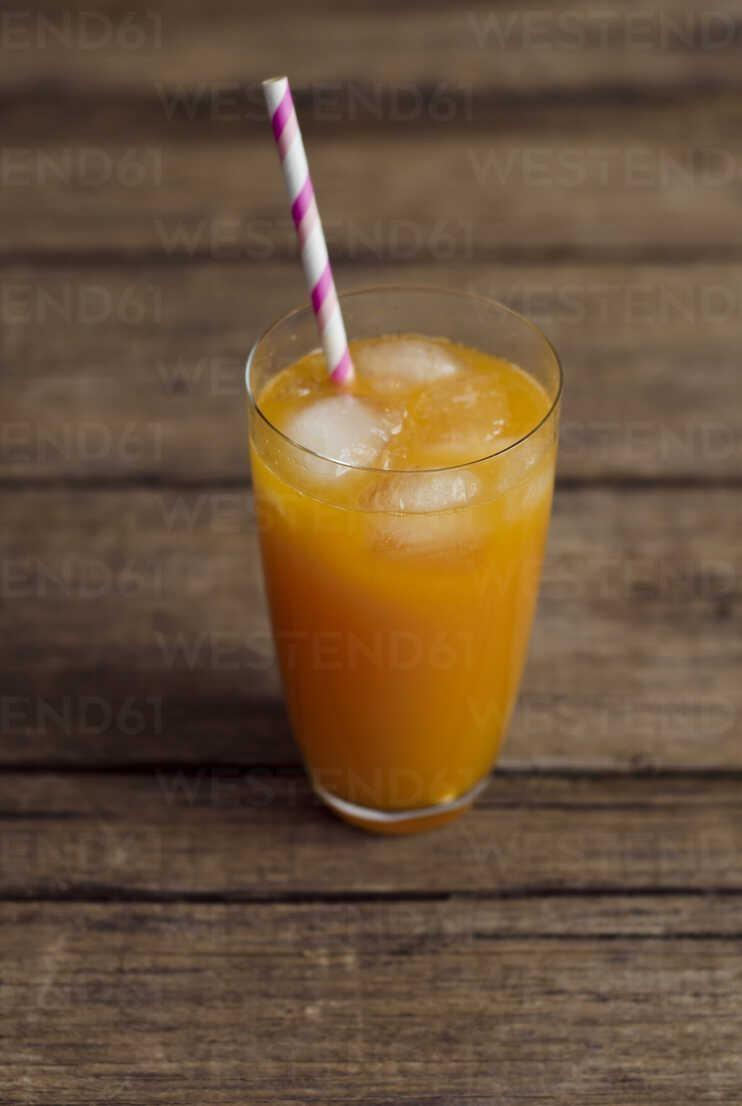glass-normal: (240, 283, 565, 831)
